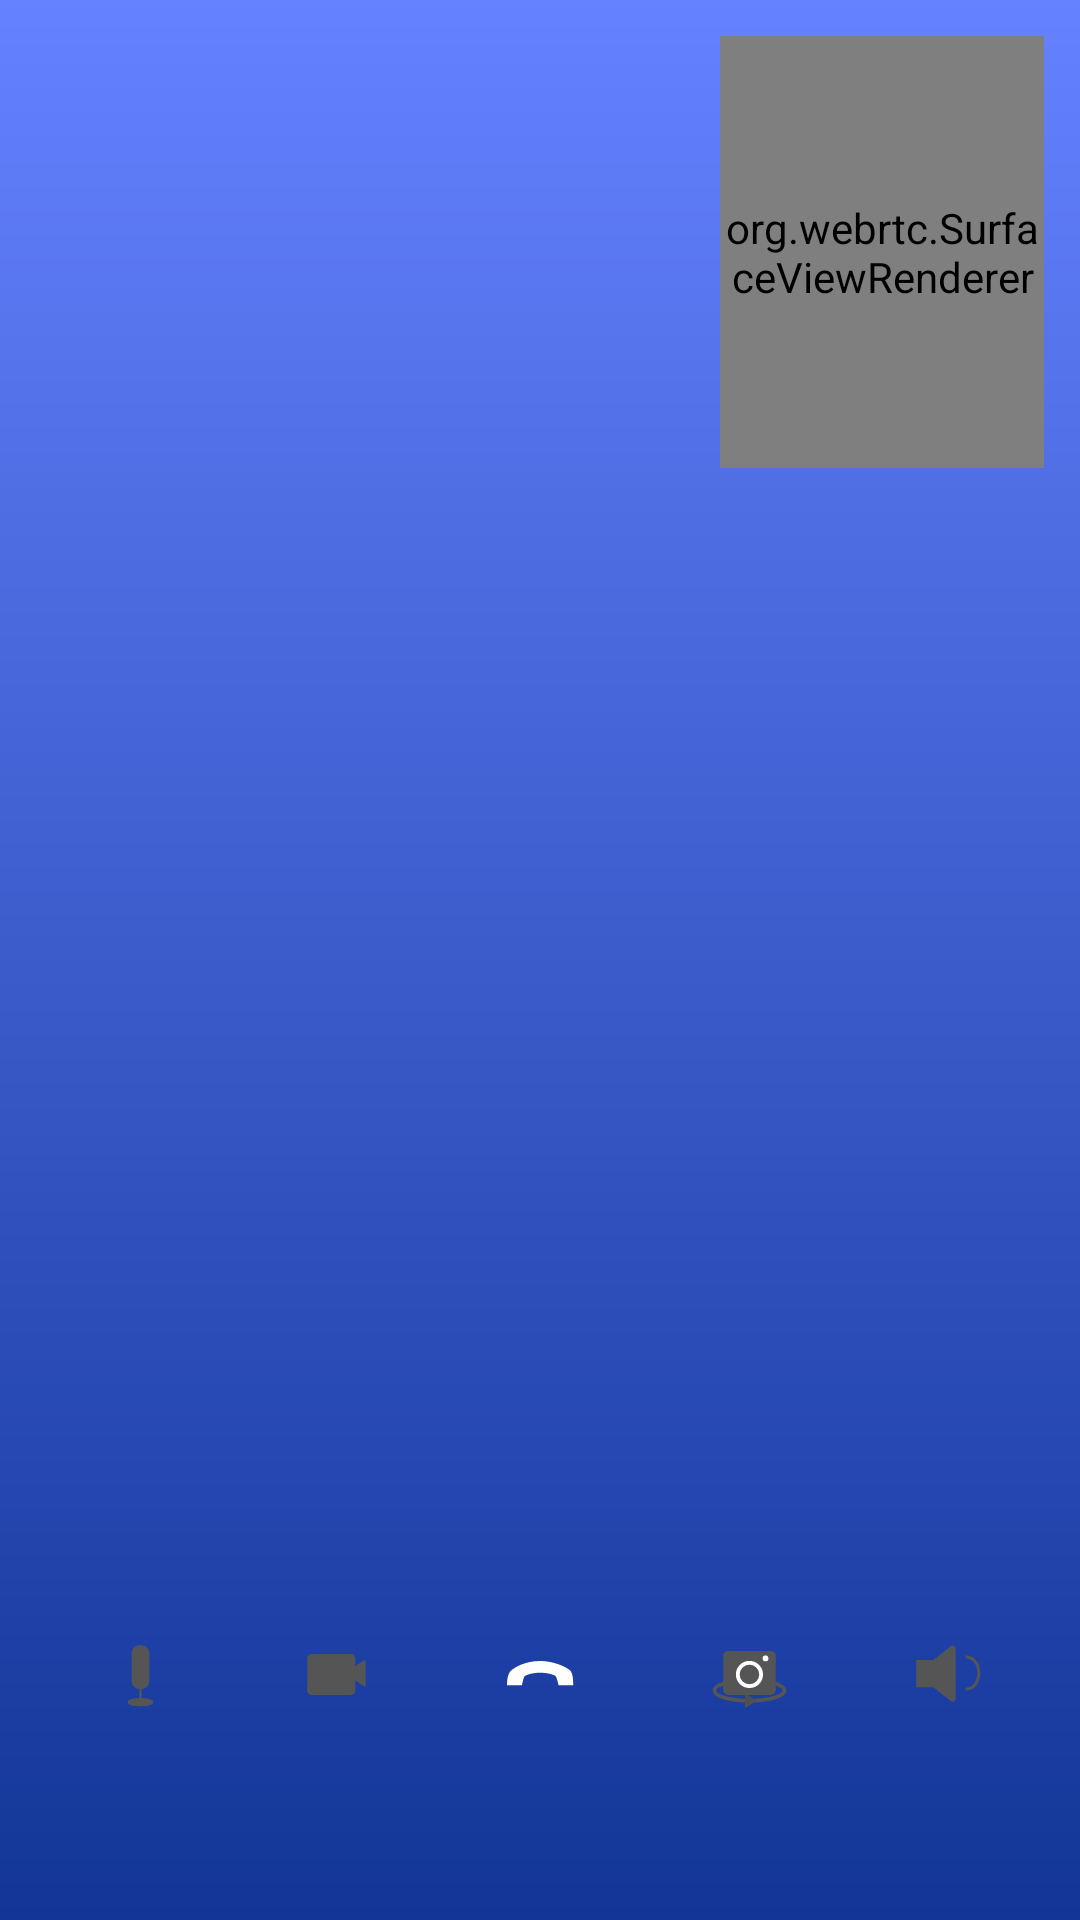

Screen size 1080x1920. Icon name, then its box in pixels as (x1, y1, x2, y2):
call end: (507, 1661, 574, 1686)
cam: (307, 1654, 366, 1695)
mic: (128, 1645, 153, 1706)
speaker on: (916, 1645, 980, 1702)
switch cam: (712, 1651, 786, 1708)
